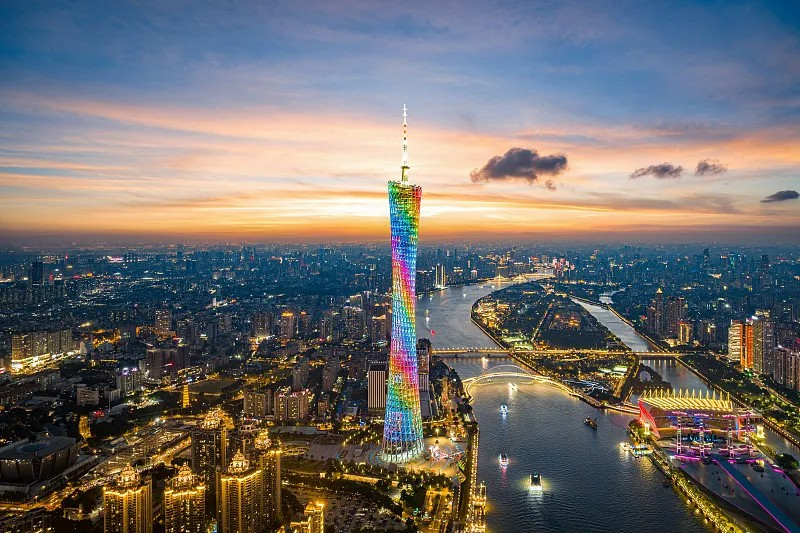Canton: (379, 103, 427, 461)
